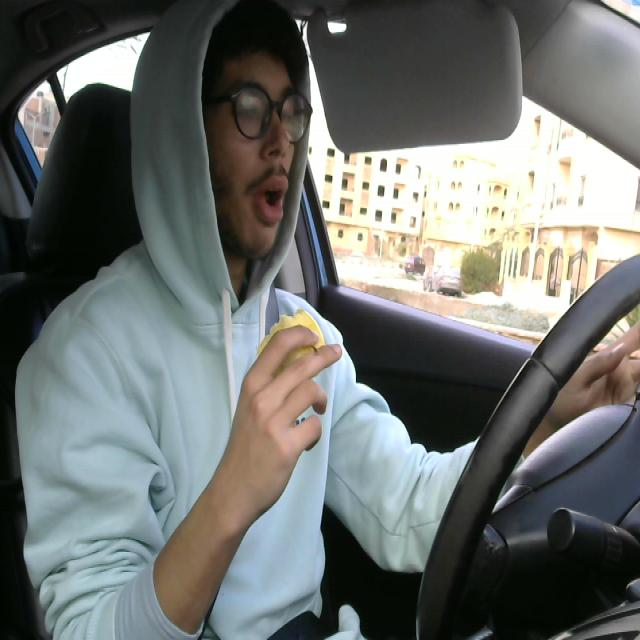eating: (252, 305, 341, 381)
